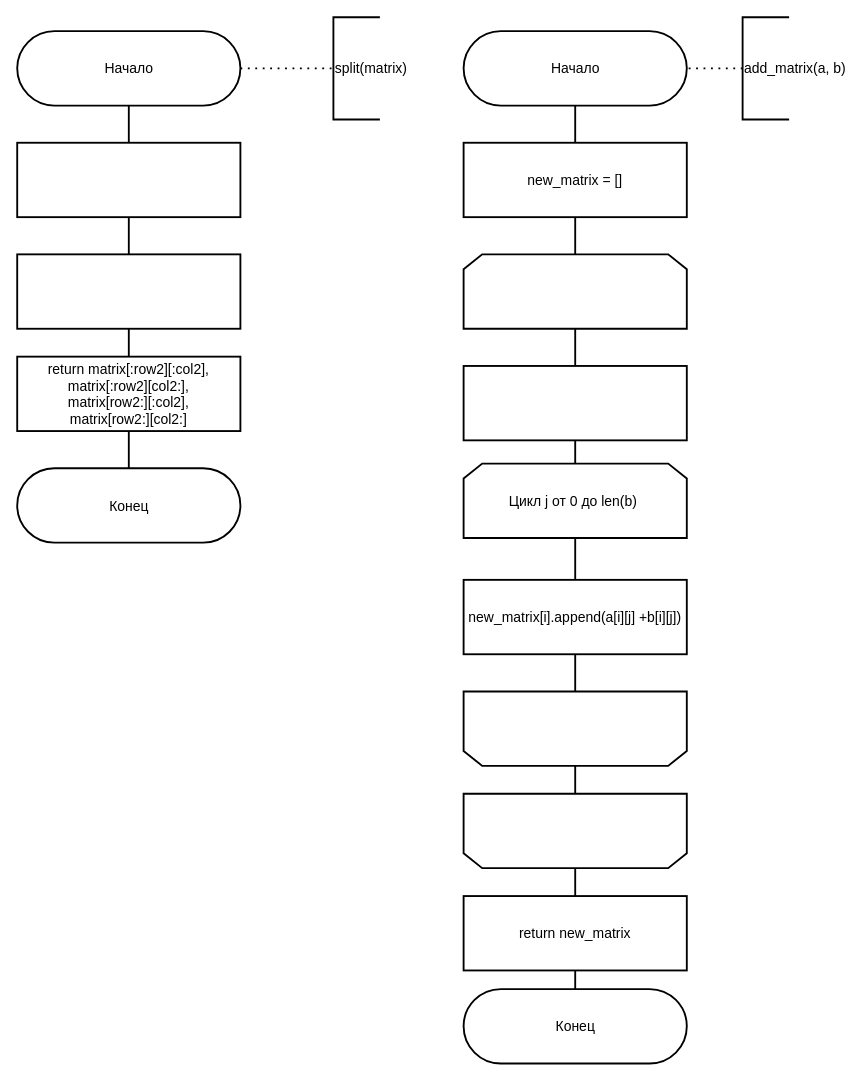
The diagram is 861 pixels wide and 1080 high, and some of its shapes have lost their labels. The shapes that lost their labels are listed below. From the top down, each one's centre as x and y in pixels, then its label:
point (128, 179): row, col = len(matrix), len(matrix[0])
point (128, 291): row2 = row//2 col2 = col//2
point (574, 291): Цикл i от 0 до len(a)
point (574, 403): new_matrix.append([])
point (574, 728): Конец цикла по j
point (574, 830): Конец цикла по i
